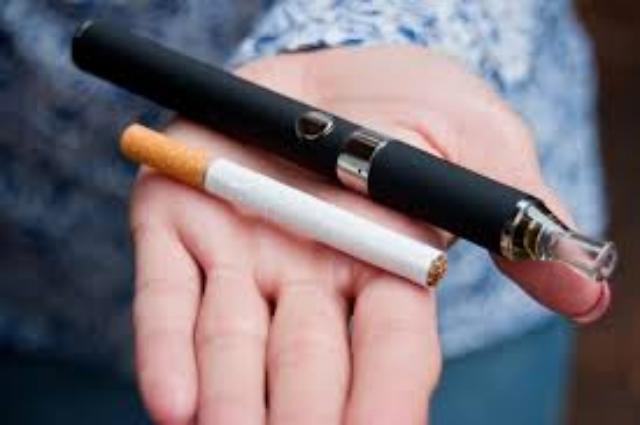Cigarette: (120, 124, 448, 290)
